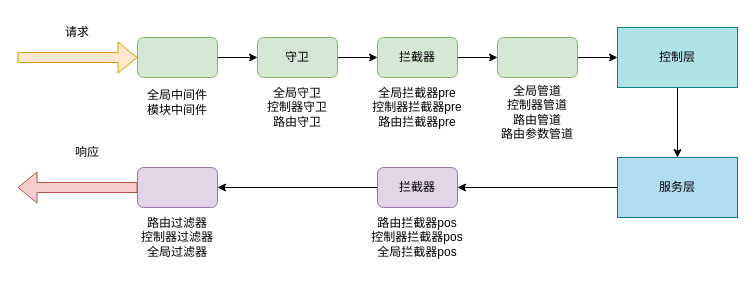
This 755x284 diagram has some shape labels left out. Here are the shapes that lost their labels. From the top down, the centre of each, then its label:
At (x=177, y=57): "中间件".
At (x=537, y=57): "管道".
At (x=177, y=187): "过滤器".
